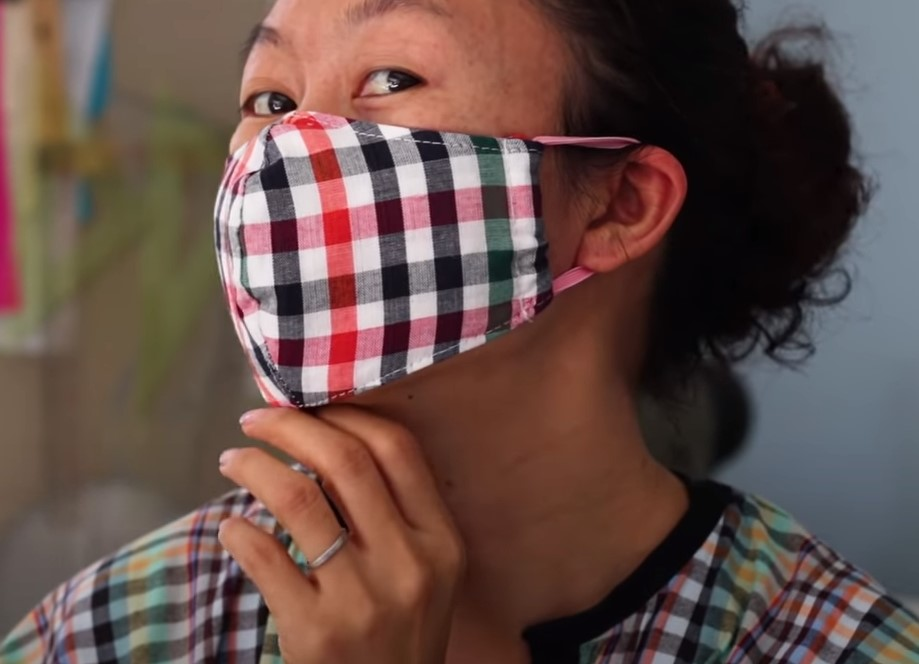face_with_mask: (204, 11, 694, 402)
